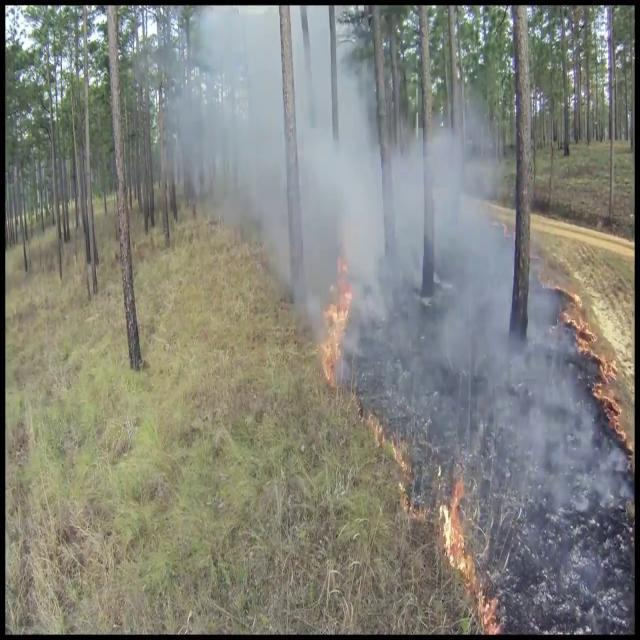Fire: (435, 480, 502, 632), (318, 247, 357, 384)
Smoke: (374, 121, 621, 562), (173, 4, 389, 330)
